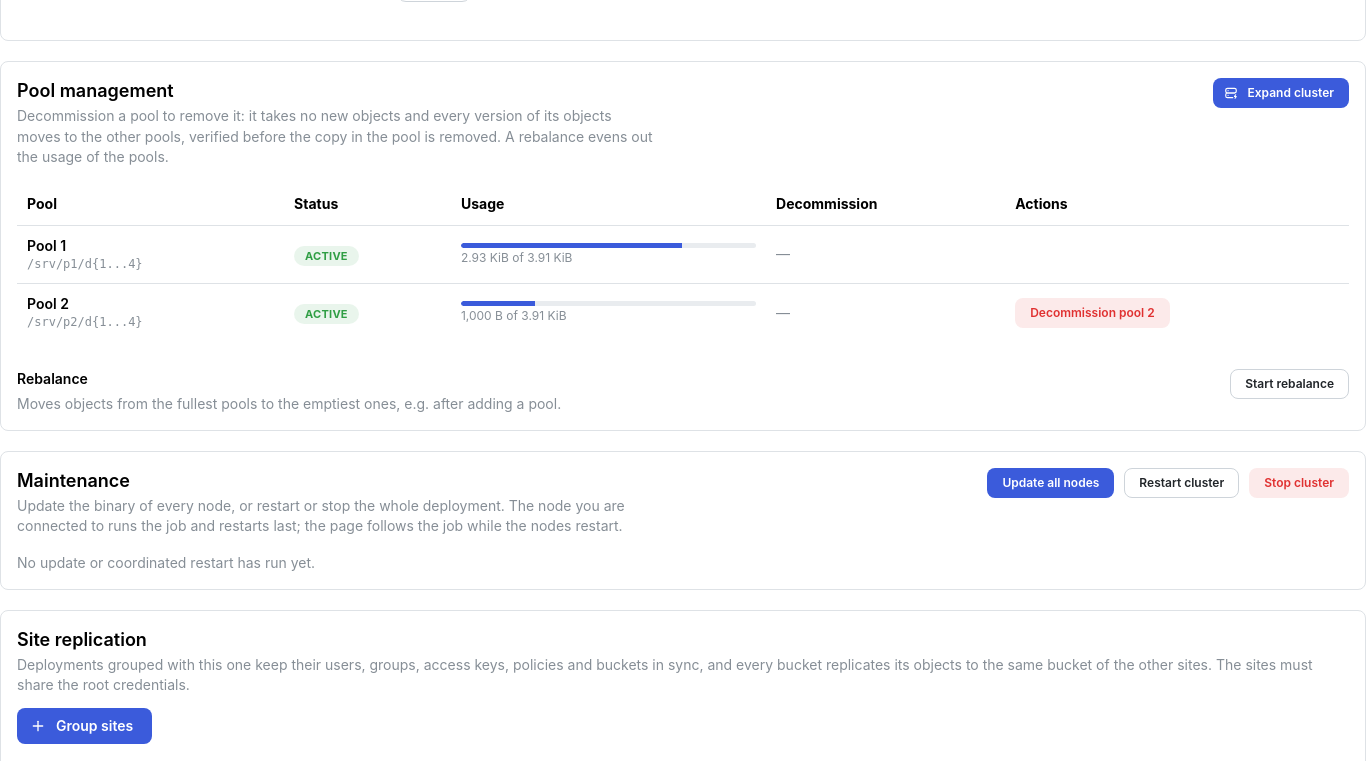
Test case: ClusterPage pool management (D-CLU-03) › starts and stops the rebalance
This screenshot has width=1366, height=761.
(page scrolled)
Click the button "Start rebalance". click: coordinates (1290, 384)
box: [1230,369,1349,399]
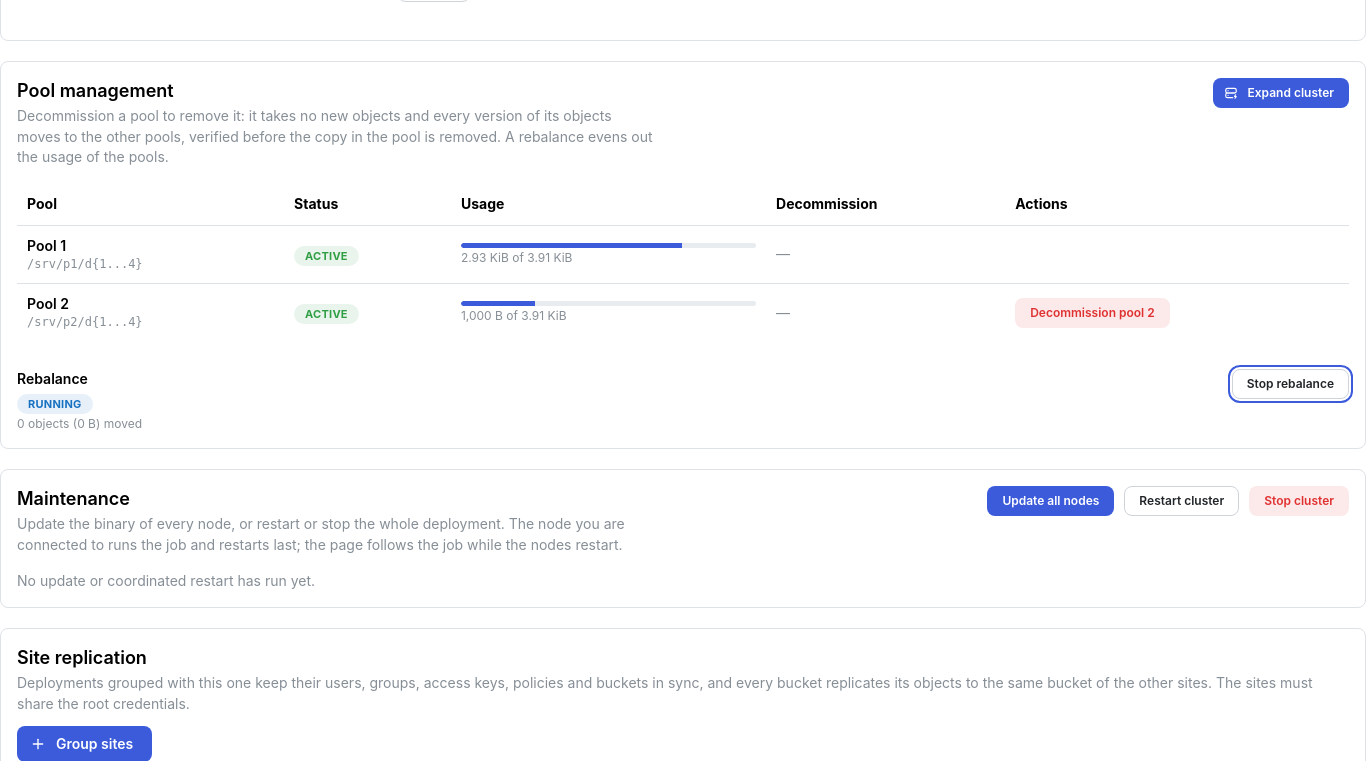
Click the button "Stop rebalance". click: coordinates (1290, 384)
box: [1232,369,1349,399]
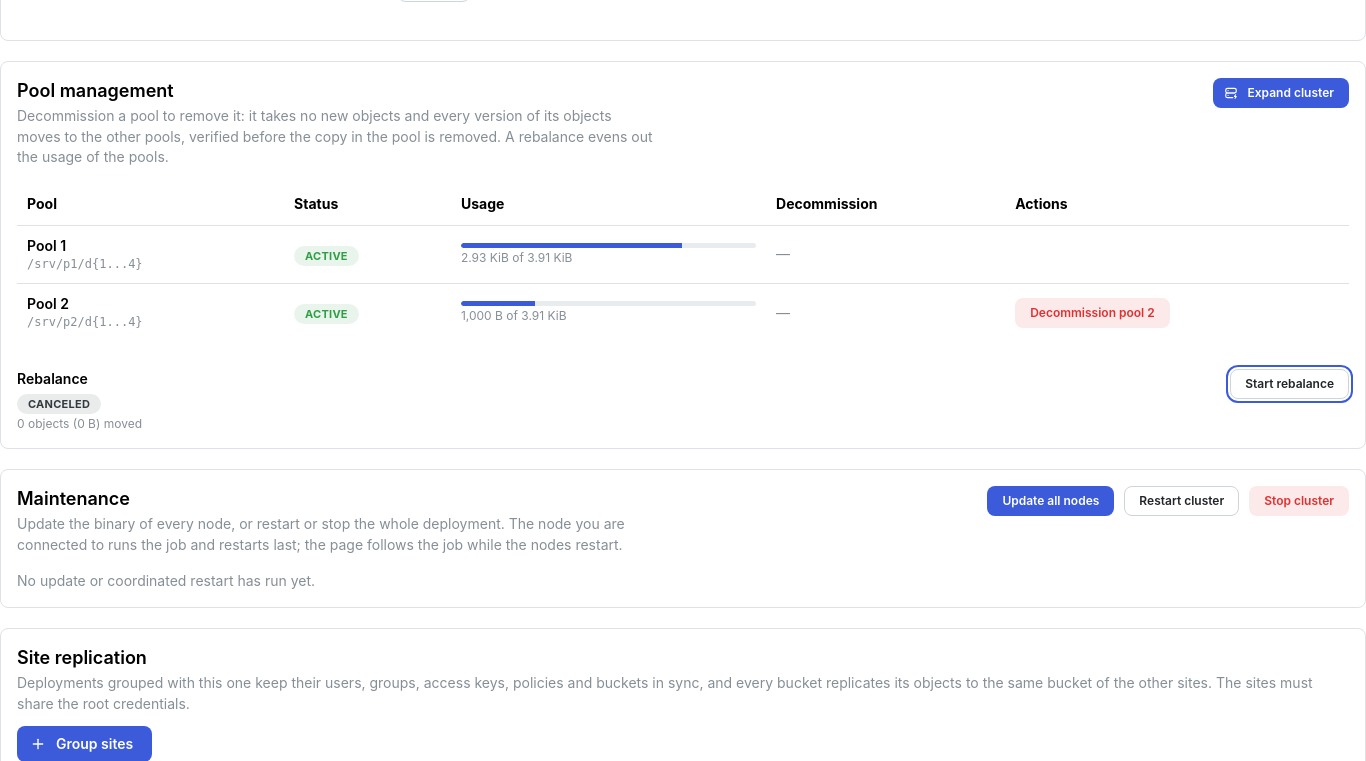
Expected: the text "Canceled" is shown, [28,394,90,412]
